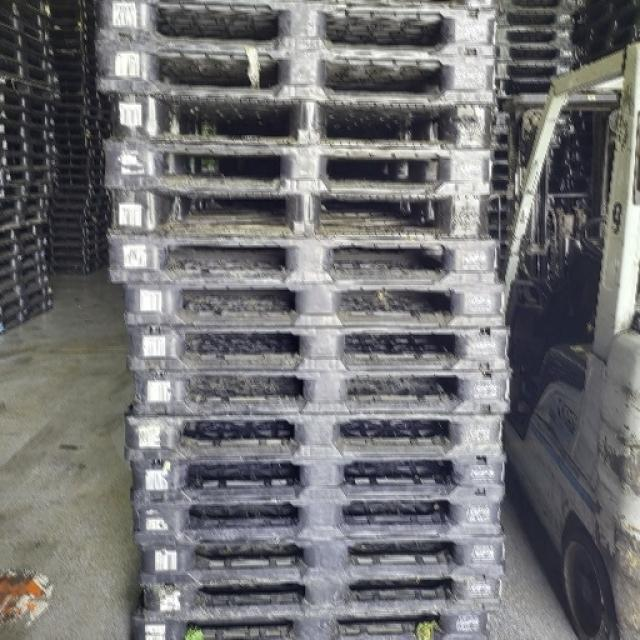igps: (86, 75, 501, 157), (88, 36, 502, 112), (93, 134, 497, 204), (102, 222, 506, 292), (101, 178, 519, 242), (89, 0, 505, 54), (125, 366, 519, 414), (118, 278, 521, 324), (120, 409, 510, 456), (120, 319, 519, 363), (128, 493, 508, 538), (131, 532, 511, 577), (128, 453, 512, 497), (134, 567, 509, 611), (126, 606, 497, 640), (0, 17, 56, 61), (0, 51, 60, 91), (0, 280, 54, 324), (0, 68, 62, 106), (0, 32, 56, 74), (0, 81, 61, 118), (0, 4, 53, 46), (0, 298, 55, 336), (0, 268, 51, 308), (0, 99, 59, 131), (498, 43, 575, 65), (0, 258, 51, 291), (0, 232, 52, 264), (495, 27, 574, 48), (495, 10, 577, 30), (0, 115, 58, 143), (0, 205, 51, 235), (0, 246, 49, 277), (0, 218, 50, 248), (0, 192, 55, 219), (497, 62, 571, 82), (0, 180, 58, 204), (491, 0, 584, 14), (0, 167, 60, 188), (0, 134, 59, 155), (0, 0, 68, 16), (0, 152, 61, 169)
